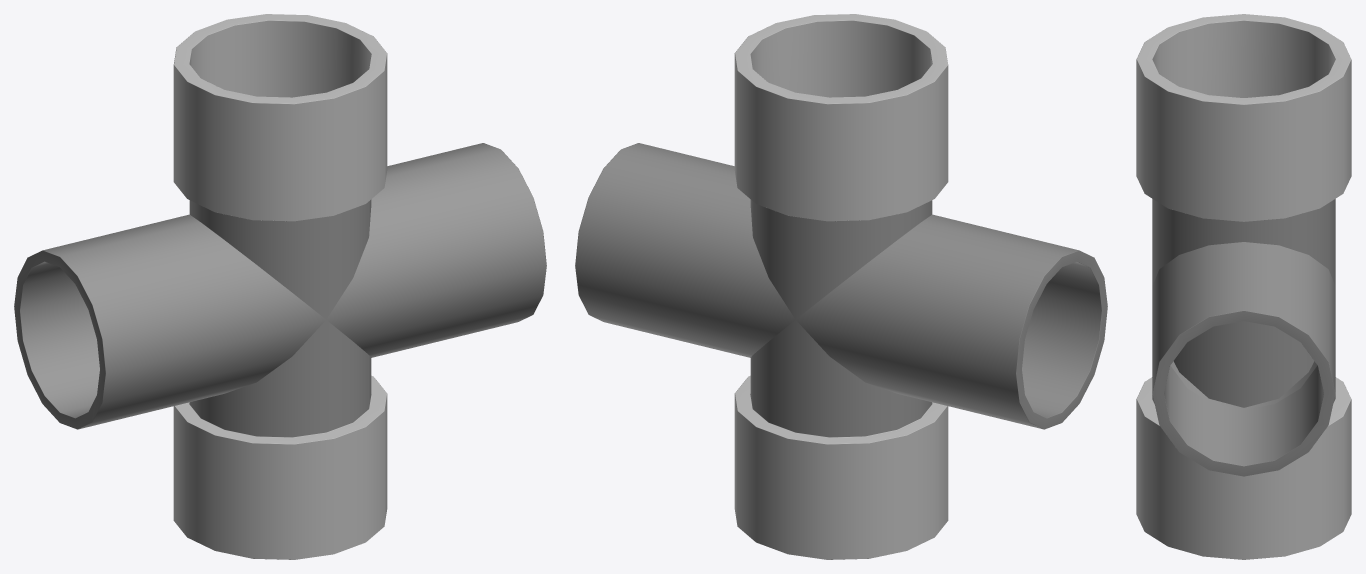
Rendered from SM_Pipe_05.fbx.
3 renders of one model, left to right at view 1: azimuth 30°, elevation 25°; view 2: azimuth 150°, elevation 25°; view 3: azimuth 270°, elevation 25°, orthographic.
Parts seen in each view (by area): view 1: SM_Pipe_05; view 2: SM_Pipe_05; view 3: SM_Pipe_05.
Boxes of the visible parts, box(x1,y1,x2,y2) form: SM_Pipe_05: box(14, 14, 546, 559); SM_Pipe_05: box(575, 14, 1107, 559); SM_Pipe_05: box(1136, 14, 1351, 559).
Bounding box in the file's own units: 113 × 47.8 × 112.
1 material, 1 textured.
